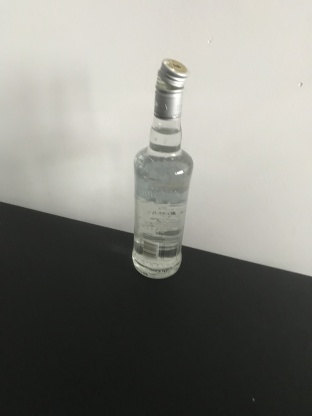nakretka: (152, 56, 189, 120)
